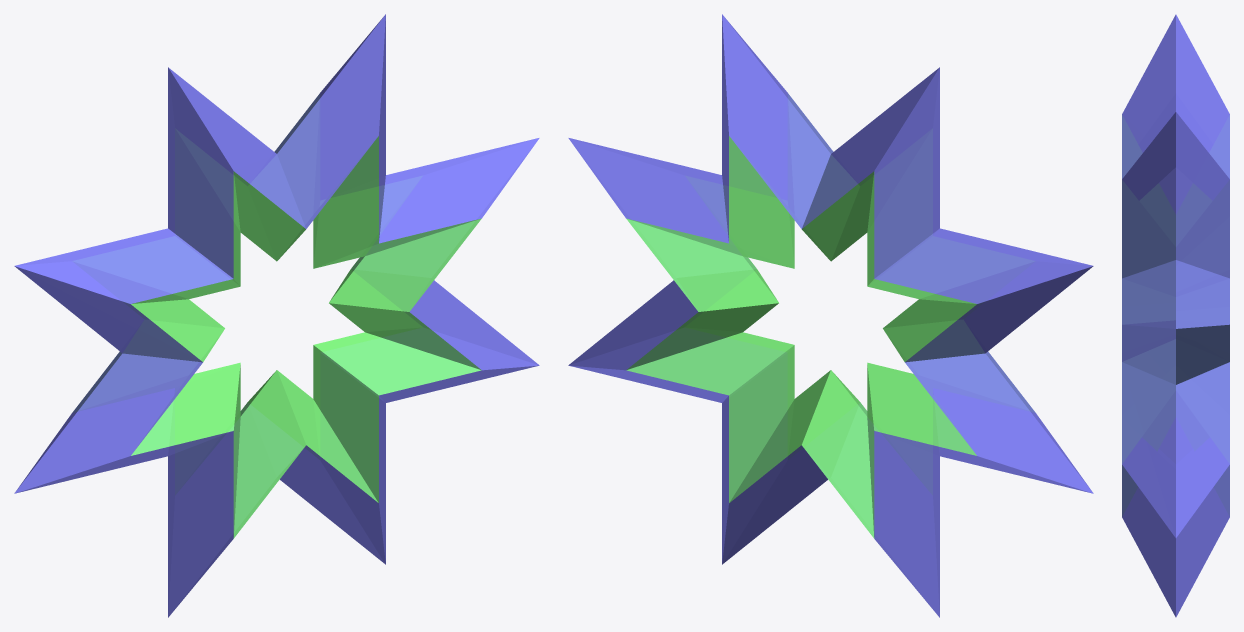
File: Regular8TetragonalStarToroid.obj
3 renders of one model, left to right at view 1: azimuth 30°, elevation 25°; view 2: azimuth 150°, elevation 25°; view 3: azimuth 270°, elevation 25°, orthographic. The views are drawn at different scales.
Bounding box in the file's own units: 3.62 × 3.62 × 0.7.
